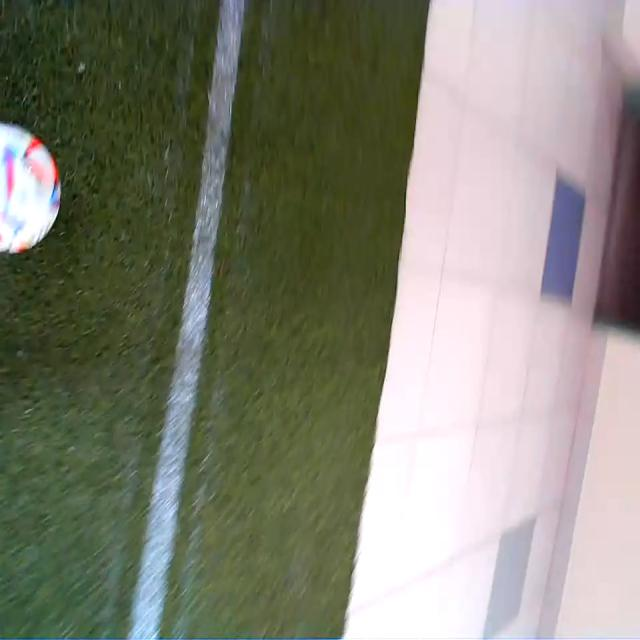ball: (0, 121, 62, 257)
